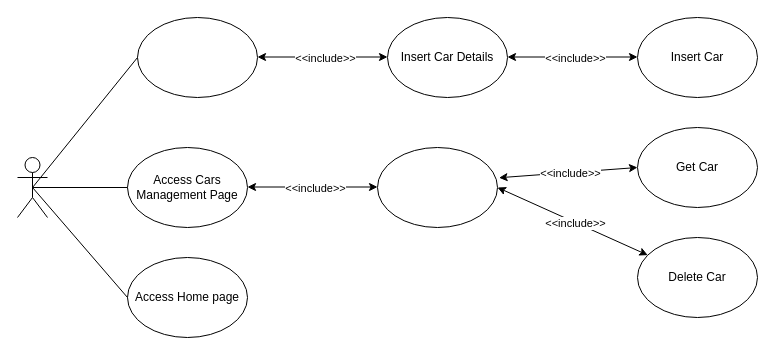
Image size: 775x355. Some labels were removed from this diagram. The shapes that lost their labels are listed below. From the top down, each one's box as (x1, y1, x2, y2) in pixels, then its label:
(136, 16, 258, 98): Access Insert Page
(16, 156, 48, 218): User
(376, 146, 498, 228): Get List of Cars
